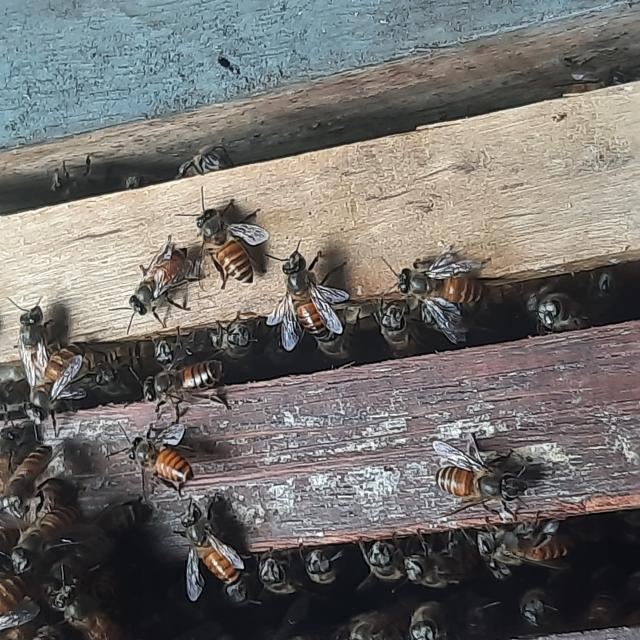honeybee: (404, 449, 570, 508), (260, 259, 360, 353), (177, 201, 290, 275), (368, 257, 493, 318), (150, 503, 261, 571), (1, 318, 76, 406), (120, 353, 256, 400), (86, 260, 194, 318), (106, 430, 208, 484), (0, 434, 85, 497), (30, 588, 131, 640), (473, 525, 581, 568), (0, 518, 84, 554), (511, 299, 585, 339), (300, 546, 357, 585), (388, 609, 465, 637), (354, 545, 417, 579), (410, 545, 458, 586), (242, 560, 296, 596), (503, 593, 538, 621)
